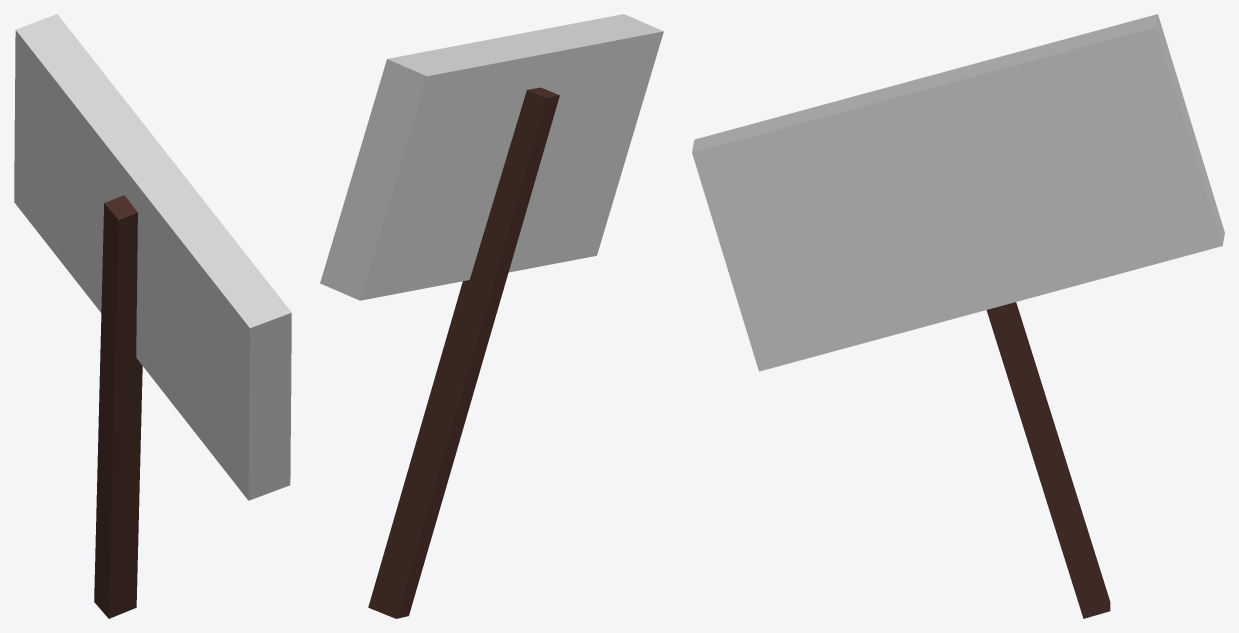
The model's file is CartelSalida.fbx.
3 renders of one model, left to right at view 1: azimuth 30°, elevation 25°; view 2: azimuth 150°, elevation 25°; view 3: azimuth 270°, elevation 25°, orthographic. The views are drawn at different scales.
Parts seen in each view (by area): view 1: Cubo.001, Cubo; view 2: Cubo.001, Cubo; view 3: Cubo.001, Cubo.
Part boxes in pixels (<box>): Cubo.001: <box>14,14,291,500</box>; Cubo: <box>94,195,142,618</box>; Cubo.001: <box>320,14,663,300</box>; Cubo: <box>368,87,559,618</box>; Cubo.001: <box>692,14,1224,371</box>; Cubo: <box>986,302,1110,618</box>.
Bounding box in the file's own units: 2.79 × 15.72 × 13.19.
